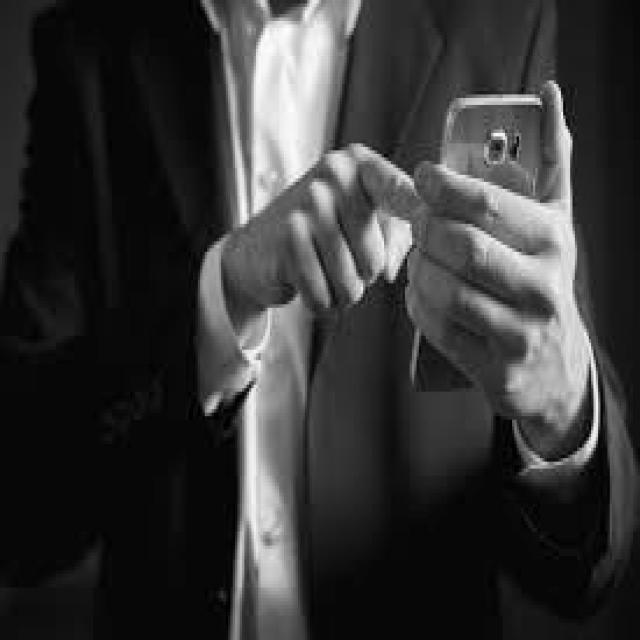No gun_phone: (410, 98, 544, 393)
